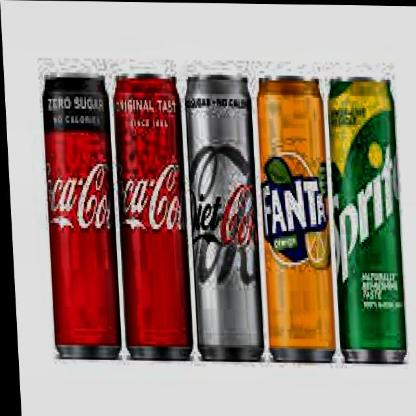Can: (36, 68, 120, 364), (324, 72, 408, 366), (252, 70, 336, 364), (110, 66, 192, 362), (182, 69, 262, 365)
